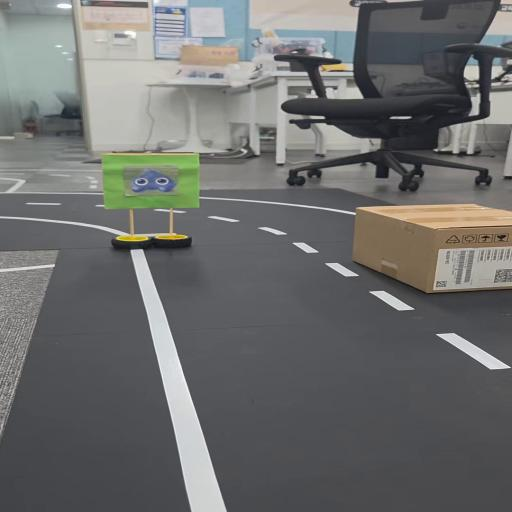Box: (352, 199, 512, 295)
Sign_B: (93, 139, 212, 247)
